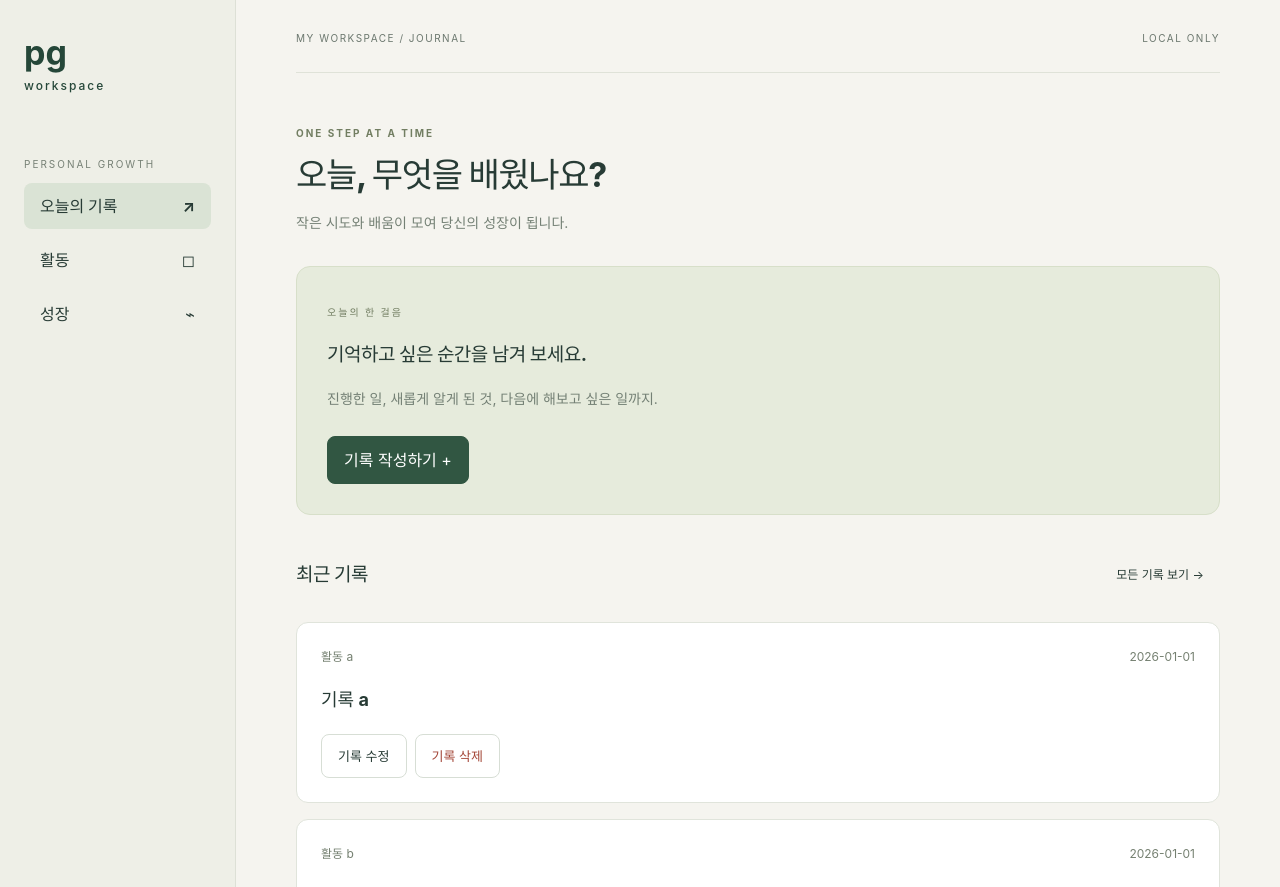
Test case: 성장 화면에서 활동별 필터를 적용한다
Expected: the heading "최근 기록" is shown, [296, 559, 368, 590]
Step 1. Click the button "성장 ⌁" → coordinates (118, 314), box [24, 291, 211, 338]
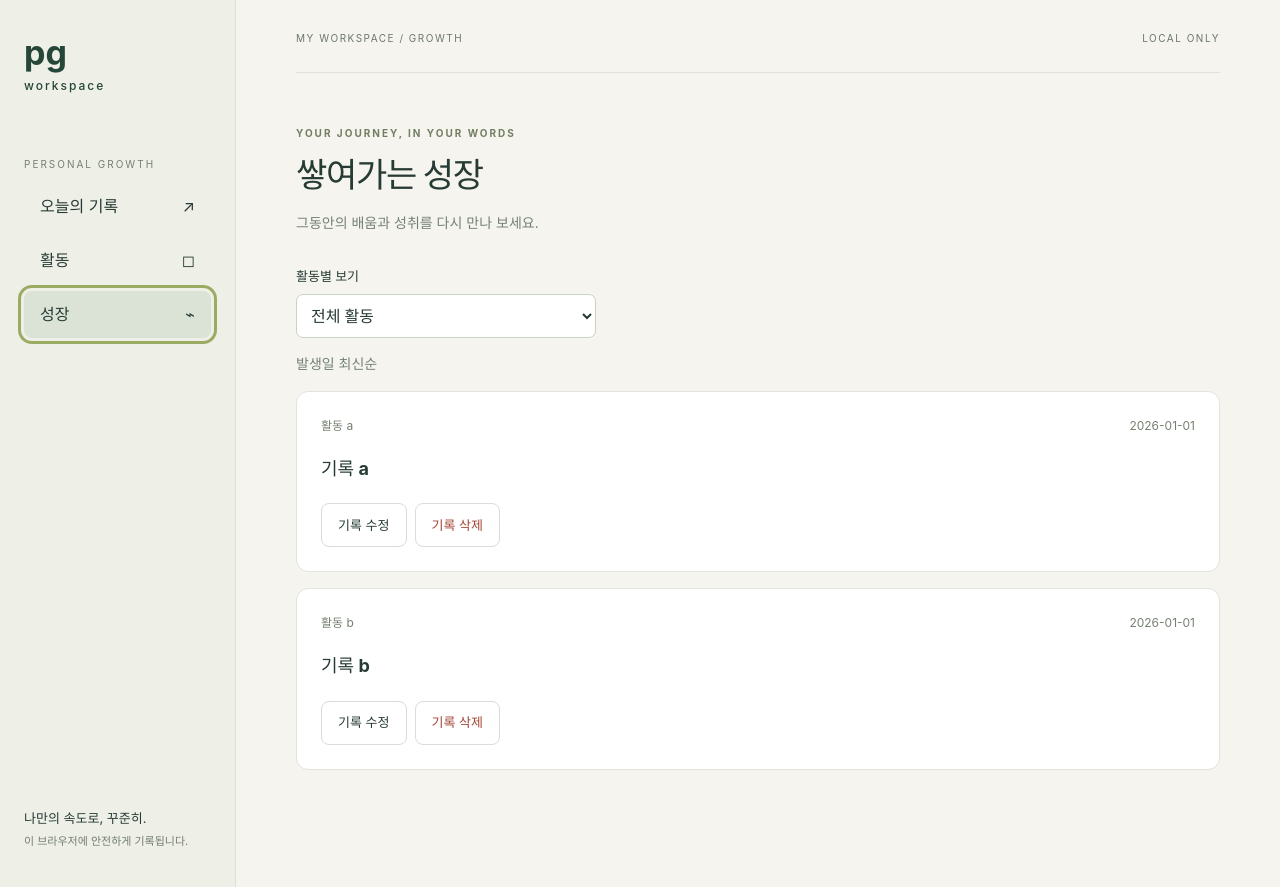
Step 2. Select "활동 a" in the dropdown labelled "활동별 보기" → coordinates (446, 316), box [296, 294, 596, 338]
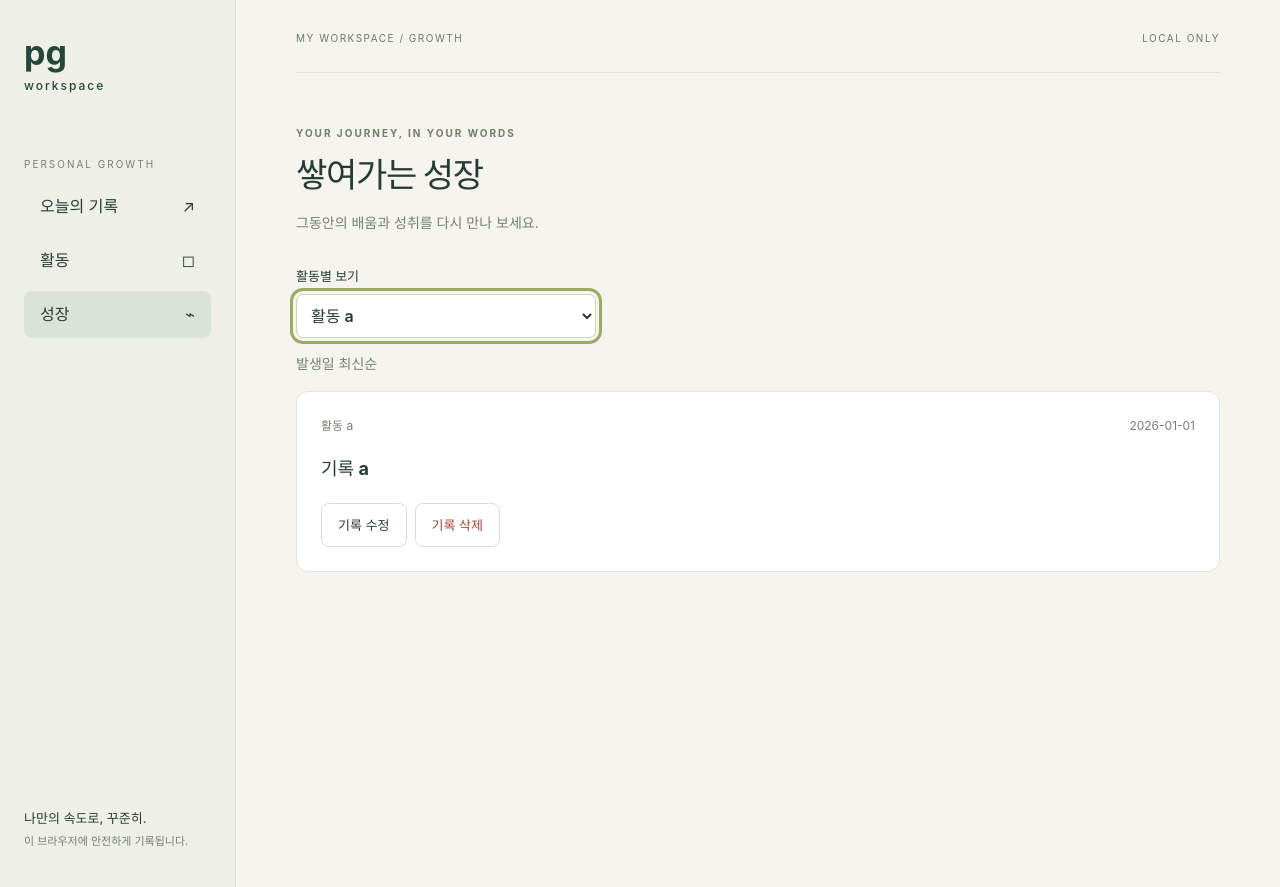
Expected: the heading "기록 a" is shown, [321, 458, 369, 479]
Expected: the heading "기록 b" is gone
